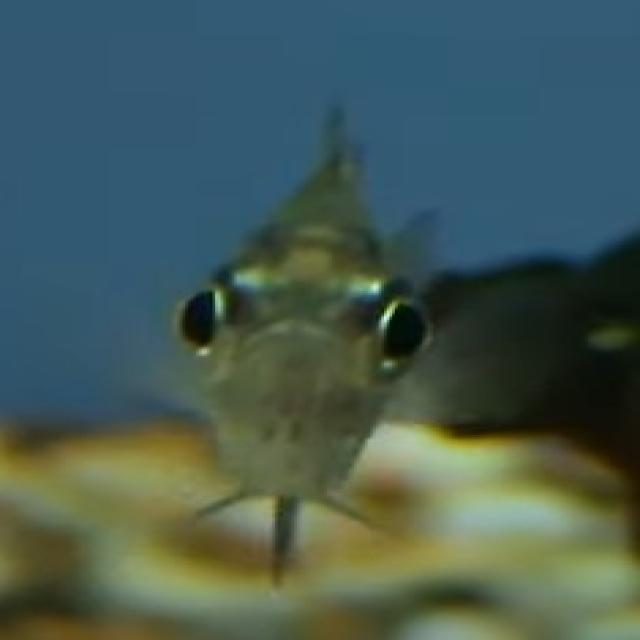Glass-Perchlet: (132, 64, 522, 596)
